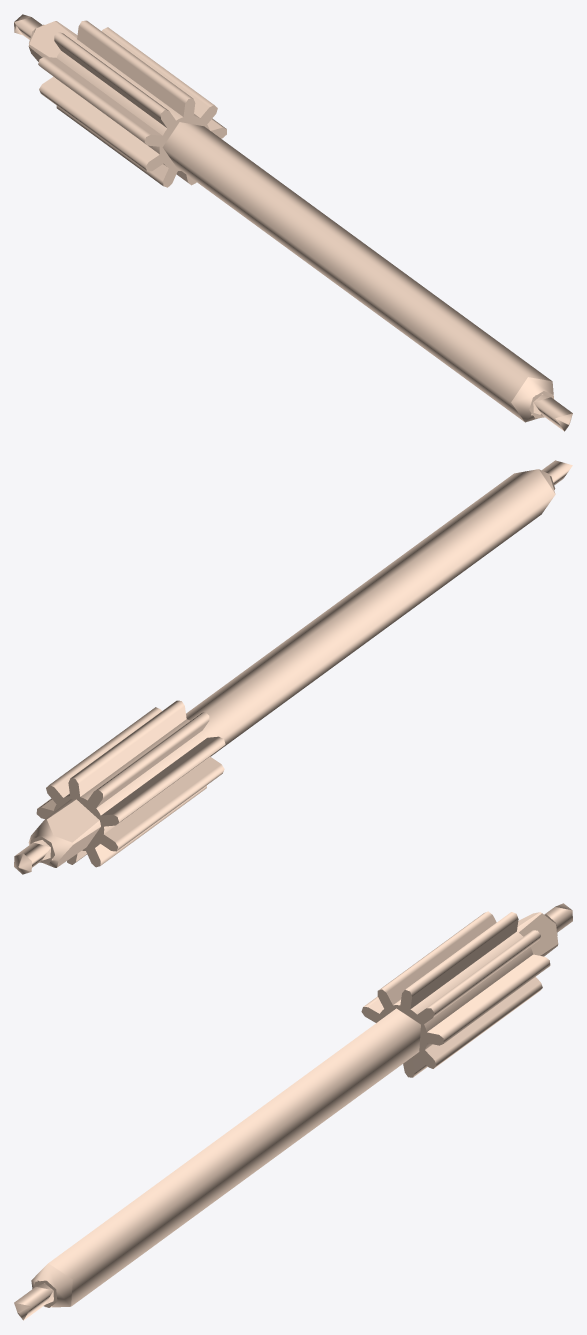
Rendered from Axe_Roue etoile Quarts.obj.
3 renders of one model, top to bottom at view 1: azimuth 30°, elevation 25°; view 2: azimuth 150°, elevation 25°; view 3: azimuth 330°, elevation 25°, orthographic.
Parts seen in each view (by area): view 1: Face_11, Face_21, Face_31, Face_57, Face_24, Face_28, Face_56, Face_26, Face_32, Face_12, Face_27, Face_18 (+4 smaller); view 2: Face_11, Face_19, Face_31, Face_57, Face_24, Face_28, Face_18, Face_56, Face_26, Face_32, Face_27, Face_52 (+3 smaller); view 3: Face_11, Face_21, Face_52, Face_56, Face_48, Face_49, Face_23, Face_55, Face_45, Face_54, Face_50, Face_24 (+4 smaller).
Boxes of the visible parts, x1=… form: Face_11: x1=162, y1=122, x2=551, y2=421; Face_21: x1=144, y1=98, x2=226, y2=187; Face_31: x1=42, y1=77, x2=159, y2=161; Face_57: x1=77, y1=26, x2=184, y2=116; Face_24: x1=54, y1=32, x2=168, y2=118; Face_28: x1=38, y1=57, x2=150, y2=144; Face_56: x1=79, y1=20, x2=192, y2=103; Face_26: x1=56, y1=51, x2=167, y2=135; Face_32: x1=39, y1=84, x2=148, y2=170; Face_12: x1=511, y1=377, x2=553, y2=422; Face_27: x1=45, y1=57, x2=161, y2=135; Face_18: x1=29, y1=21, x2=76, y2=57; Face_11: x1=186, y1=469, x2=555, y2=756; Face_19: x1=36, y1=778, x2=118, y2=867; Face_31: x1=104, y1=756, x2=221, y2=841; Face_57: x1=78, y1=706, x2=186, y2=796; Face_24: x1=95, y1=712, x2=209, y2=798; Face_28: x1=113, y1=737, x2=225, y2=823; Face_18: x1=47, y1=799, x2=99, y2=842; Face_56: x1=71, y1=700, x2=184, y2=783; Face_26: x1=96, y1=730, x2=207, y2=815; Face_32: x1=115, y1=764, x2=224, y2=850; Face_27: x1=101, y1=736, x2=218, y2=815; Face_52: x1=49, y1=707, x2=160, y2=786; Face_11: x1=36, y1=1008, x2=420, y2=1307; Face_21: x1=361, y1=989, x2=443, y2=1077; Face_52: x1=426, y1=930, x2=540, y2=1017; Face_56: x1=405, y1=912, x2=518, y2=996; Face_48: x1=439, y1=957, x2=550, y2=1043; Face_49: x1=427, y1=954, x2=544, y2=1034; Face_23: x1=386, y1=915, x2=496, y2=1004; Face_55: x1=410, y1=919, x2=518, y2=1008; Face_45: x1=425, y1=977, x2=540, y2=1060; Face_54: x1=410, y1=931, x2=523, y2=1014; Face_50: x1=424, y1=947, x2=533, y2=1031; Face_24: x1=378, y1=911, x2=492, y2=992.
Bounding box in the file's own units: 0.00805 × 0.00812 × 0.0931.
